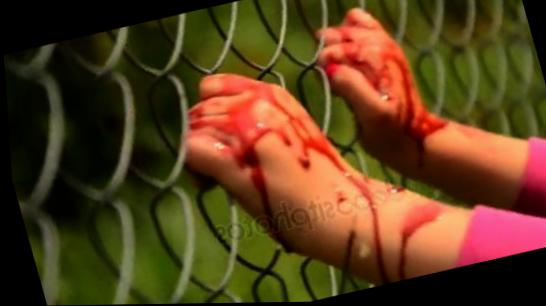Fire: (187, 74, 400, 286), (319, 10, 445, 168), (392, 202, 438, 282), (337, 231, 352, 276)
